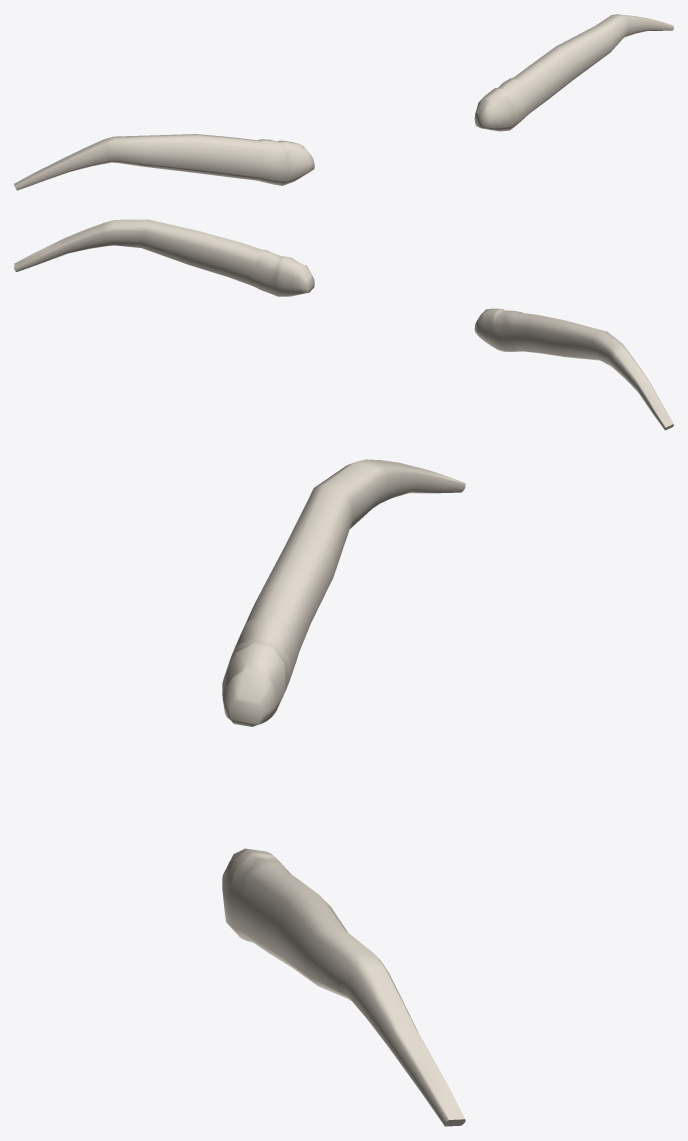
File: Eyebrows_10_07.fbx
3 renders of one model, top to bottom at view 1: azimuth 30°, elevation 25°; view 2: azimuth 150°, elevation 25°; view 3: azimuth 270°, elevation 25°, orthographic. The views are drawn at different scales.
Parts seen in each view (by area): view 1: Eyebrows_10_07; view 2: Eyebrows_10_07; view 3: Eyebrows_10_07.
Part boxes in pixels (box(x1,y1,x2,y2)): Eyebrows_10_07: box(14, 14, 673, 190); Eyebrows_10_07: box(14, 219, 673, 430); Eyebrows_10_07: box(222, 459, 465, 1126).
Bounding box in the file's own units: 19.53 × 1.75 × 3.13.
